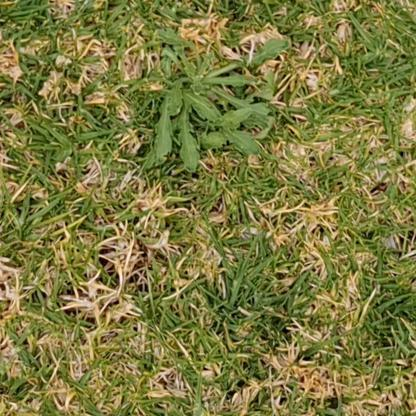Weeds: (148, 29, 290, 171)
